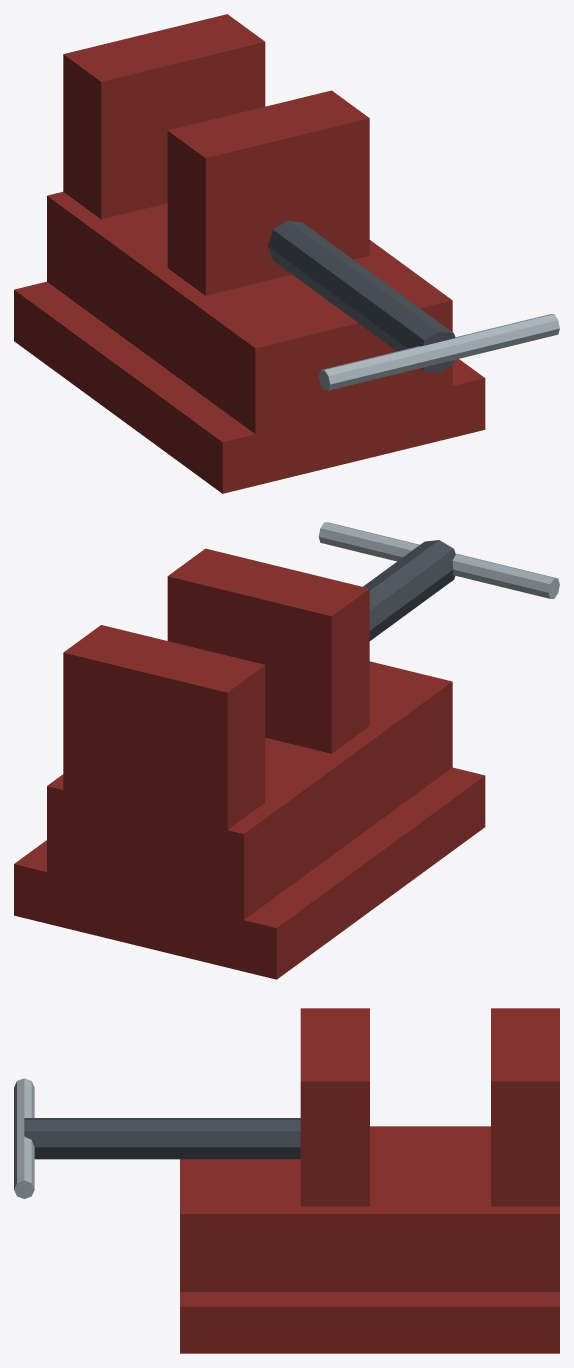
File: GT_BenchVise_01.glb
3 views of the same model, one above another, from view 1: azimuth 30°, elevation 25°; view 2: azimuth 150°, elevation 25°; view 3: azimuth 270°, elevation 25° (orthographic). The views are drawn at different scales.
Parts seen in each view (by area): view 1: GT_BenchVise_01; view 2: GT_BenchVise_01; view 3: GT_BenchVise_01.
Part boxes in pixels (box(x1,y1,x2,y2)): GT_BenchVise_01: box(14, 14, 559, 493); GT_BenchVise_01: box(14, 522, 559, 979); GT_BenchVise_01: box(14, 1008, 559, 1353).
Bounding box in the file's own units: 0.16 × 0.16 × 0.316.
Materials: 1 (1 with a texture image).
